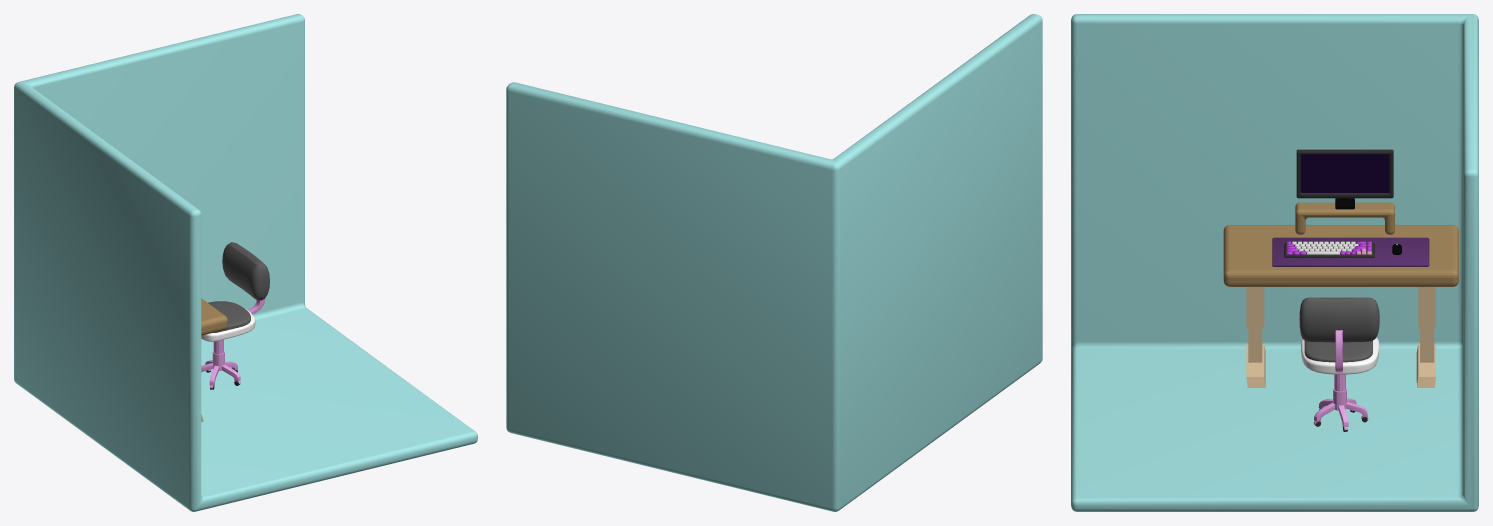
Rendered from room_try2-v1.glb.
3 renders of one model, left to right at view 1: azimuth 30°, elevation 25°; view 2: azimuth 150°, elevation 25°; view 3: azimuth 270°, elevation 25°, orthographic. The views are drawn at different scales.
Visible parts, largest first — view 1: room, Cube, Plane.070, desk; view 2: room; view 3: room, desk, monitor.001, Cube, mousemate, deskstand, monitorholder, monitor, deskfeet, Plane.070, Plane, Plane.018 (+2 smaller).
Boxes of the visible parts, <box> form: room: <box>14,14,477,511</box>; Cube: <box>222,242,269,300</box>; Plane.070: <box>208,301,250,332</box>; desk: <box>201,298,227,335</box>; room: <box>506,14,1042,511</box>; room: <box>1071,14,1478,511</box>; desk: <box>1223,225,1458,286</box>; monitor.001: <box>1300,154,1389,192</box>; Cube: <box>1299,297,1379,342</box>; mousemate: <box>1272,237,1429,266</box>; deskstand: <box>1246,287,1435,362</box>; monitorholder: <box>1295,202,1394,234</box>; monitor: <box>1296,149,1393,198</box>; deskfeet: <box>1246,344,1435,387</box>; Plane.070: <box>1304,341,1372,362</box>; Plane: <box>1301,337,1378,374</box>; Plane.018: <box>1292,241,1358,254</box>.
Bounding box in the file's own units: 6.43 × 6.43 × 6.95.
